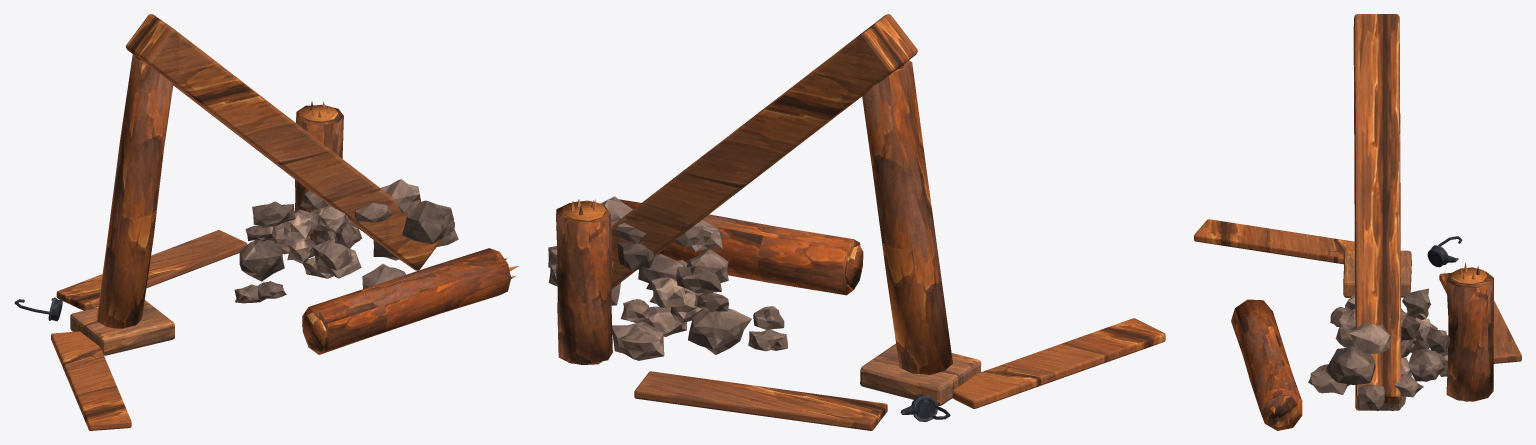
File: mp_collapsed_set.glb
3 renders of one model, left to right at view 1: azimuth 30°, elevation 25°; view 2: azimuth 150°, elevation 25°; view 3: azimuth 270°, elevation 25°, orthographic. The views are drawn at different scales.
Parts seen in each view (by area): view 1: model; view 2: model; view 3: model.
Part boxes in pixels (left/top/right/bottom): model: left=14, top=14, right=518, bottom=430; model: left=548, top=14, right=1165, bottom=430; model: left=1194, top=14, right=1521, bottom=430.
Bounding box in the file's own units: 2.21 × 1.38 × 1.43.
16 materials, 15 textured.
